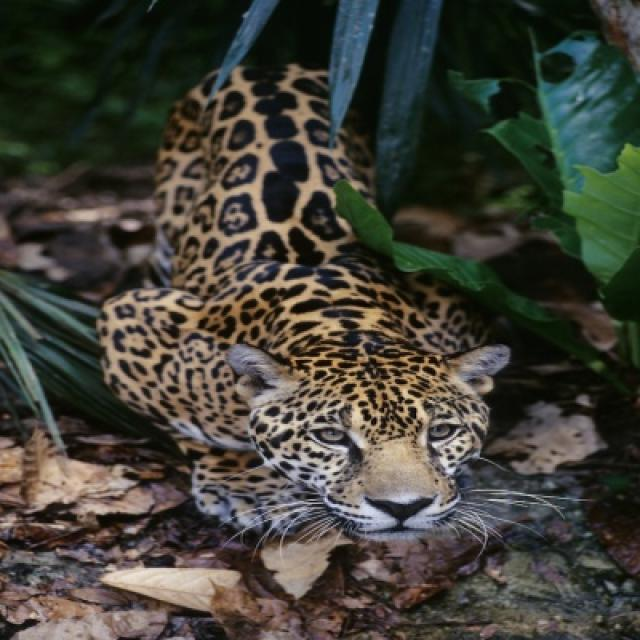Jaguar: (98, 64, 512, 536)
